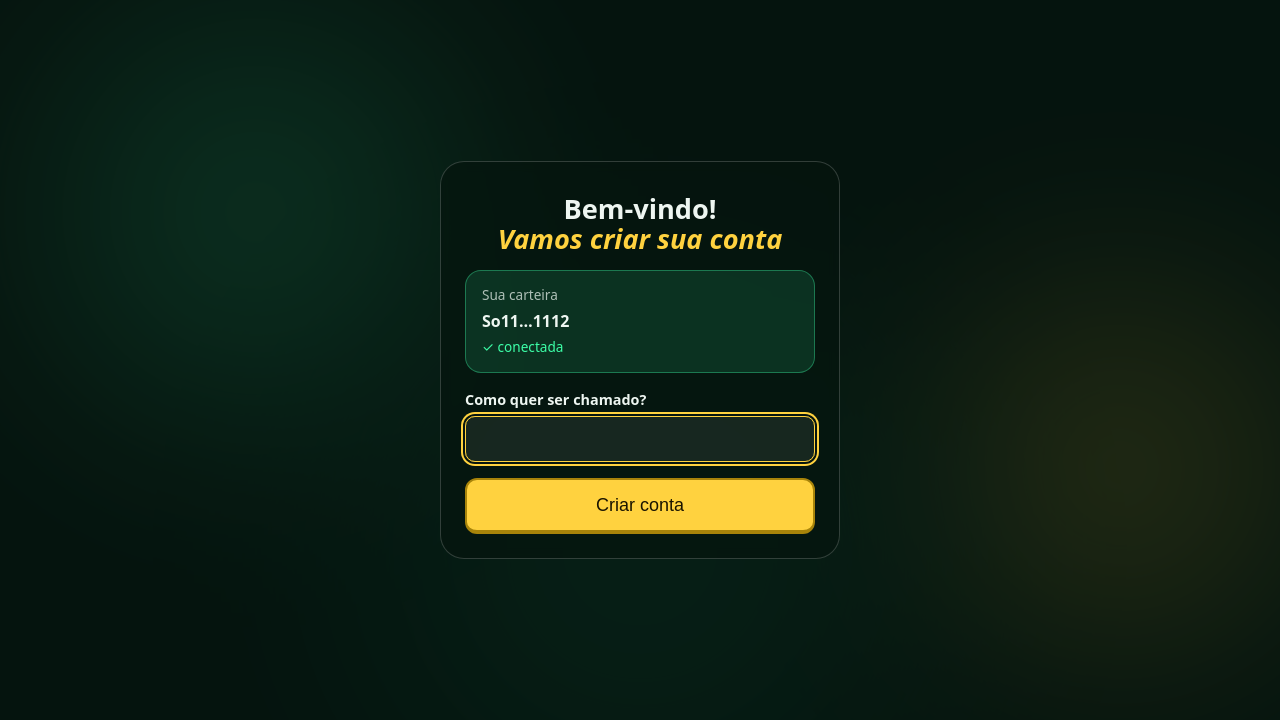
Scenario: CreateAccount › maps rate_limited (429) to a try-later message
Type "Ana" into the field labelled "Como quer ser chamado?" at (640, 439), box [465, 416, 815, 462]
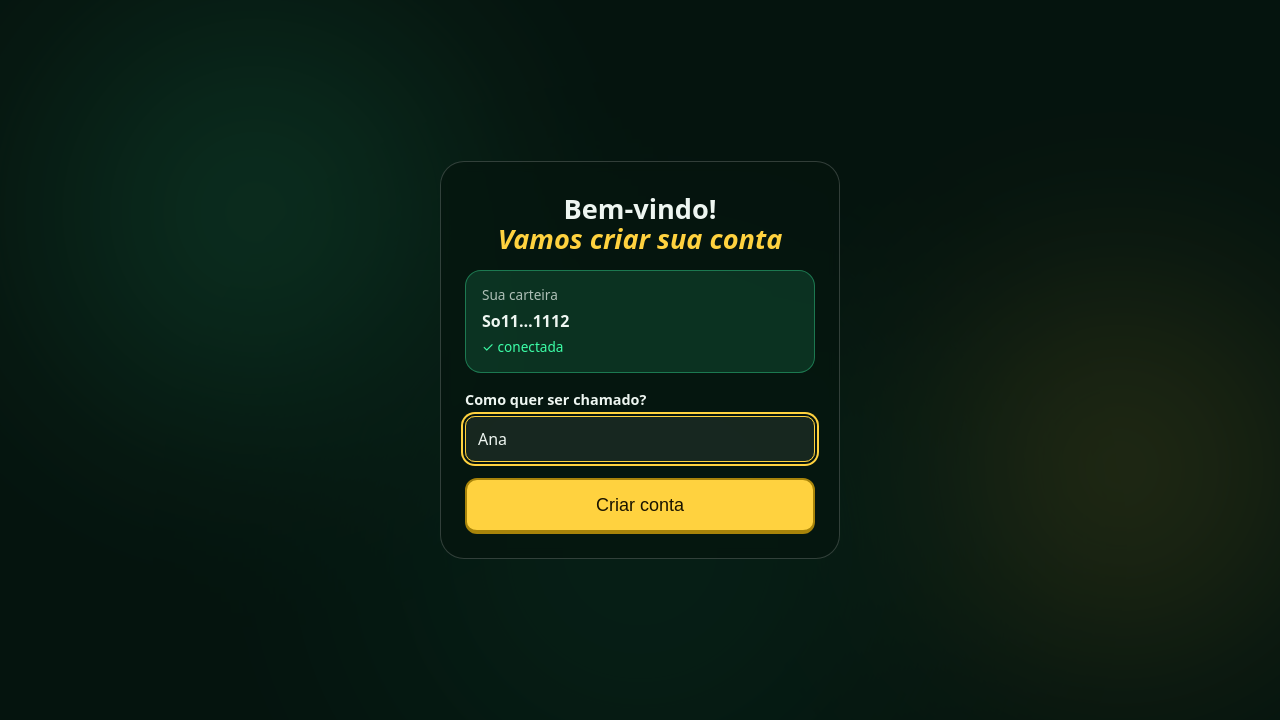
Click the button "Criar conta" at (640, 506), box [465, 478, 815, 534]
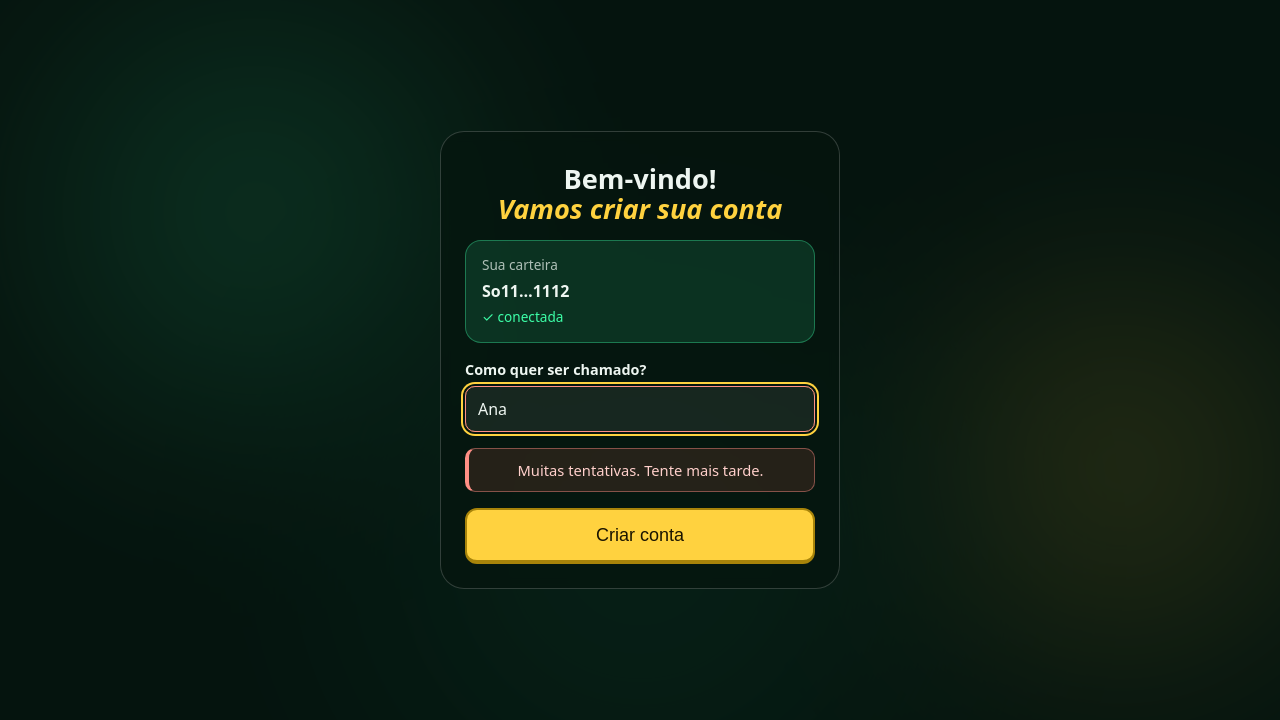
Result: the text "Muitas tentativas. Tente mais tarde." is shown at [465, 448, 815, 492]
